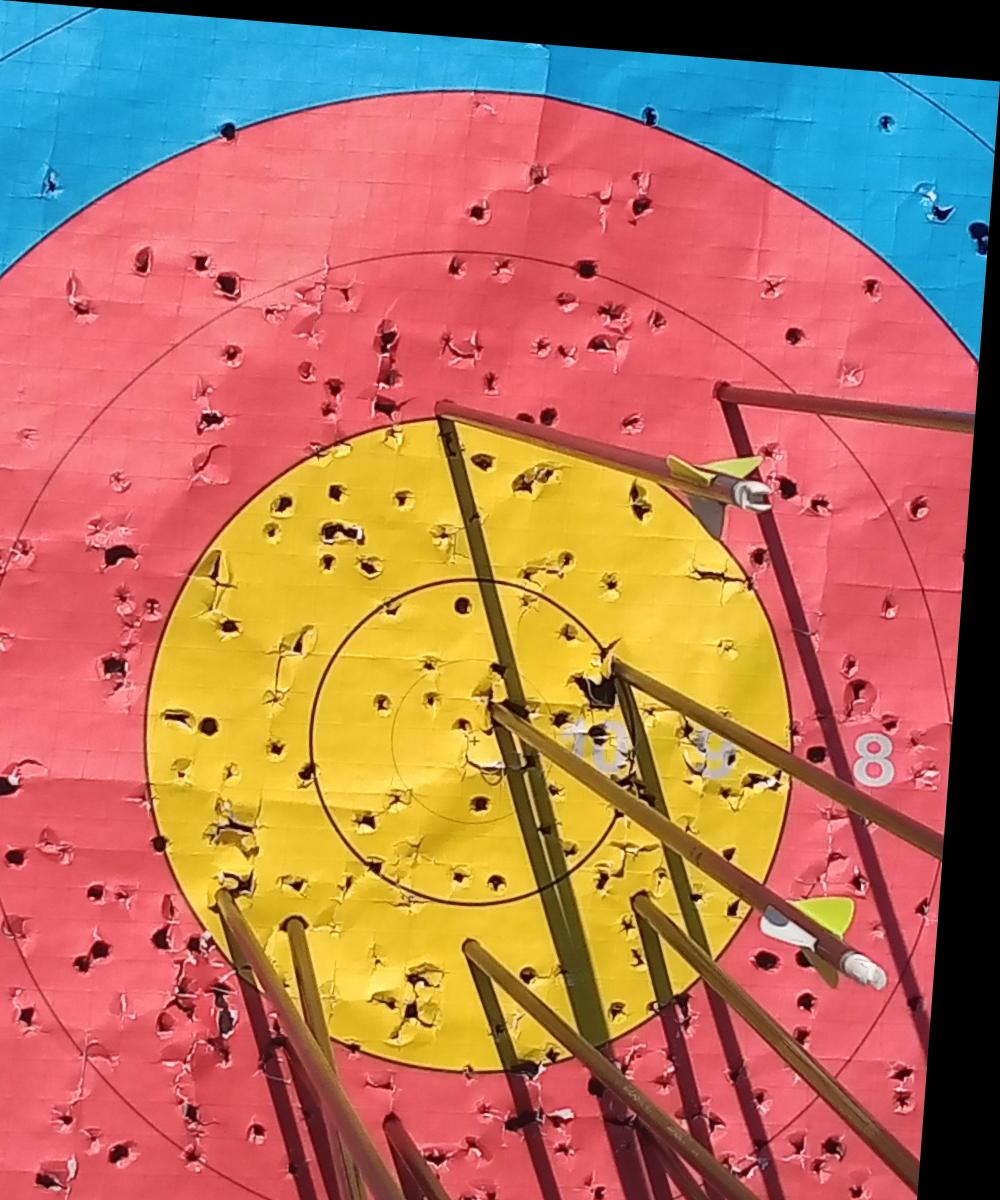10-Ring: (267, 515, 698, 949)
6-Ring: (0, 6, 996, 1200)
7-Ring: (0, 90, 983, 1200)
8-Ring: (0, 249, 962, 1200)
9-Ring: (136, 391, 821, 1079)
Arrow: (482, 663, 928, 995), (638, 877, 953, 1178), (471, 929, 797, 1200), (615, 646, 965, 842), (431, 391, 786, 532), (722, 371, 981, 416)
